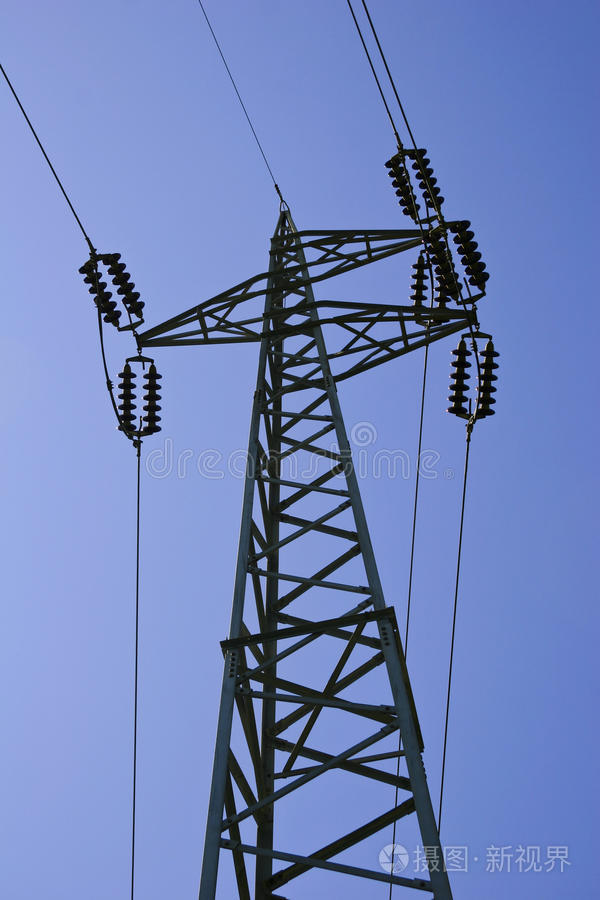insulator: (425, 218, 490, 298), (75, 251, 144, 325), (446, 344, 503, 418), (385, 151, 442, 217), (113, 367, 168, 435), (411, 257, 448, 309)
